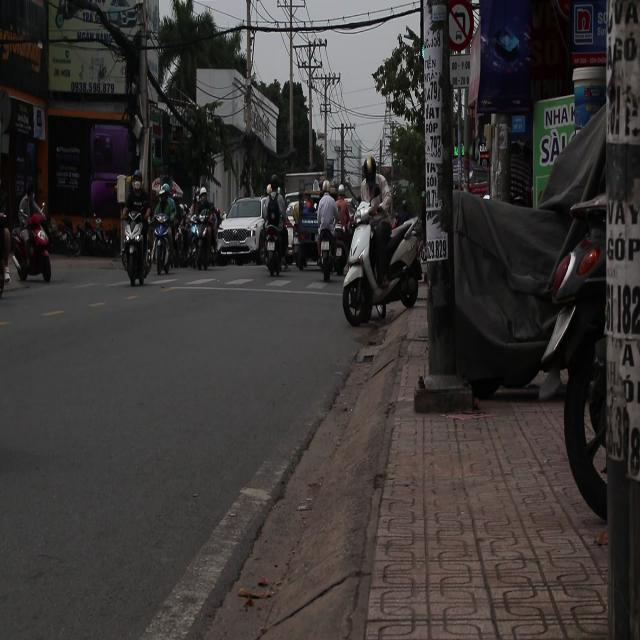car: (217, 198, 270, 267)
motorbike: (342, 212, 424, 329), (12, 202, 53, 280), (120, 202, 153, 287), (187, 192, 220, 270), (317, 224, 344, 313)
